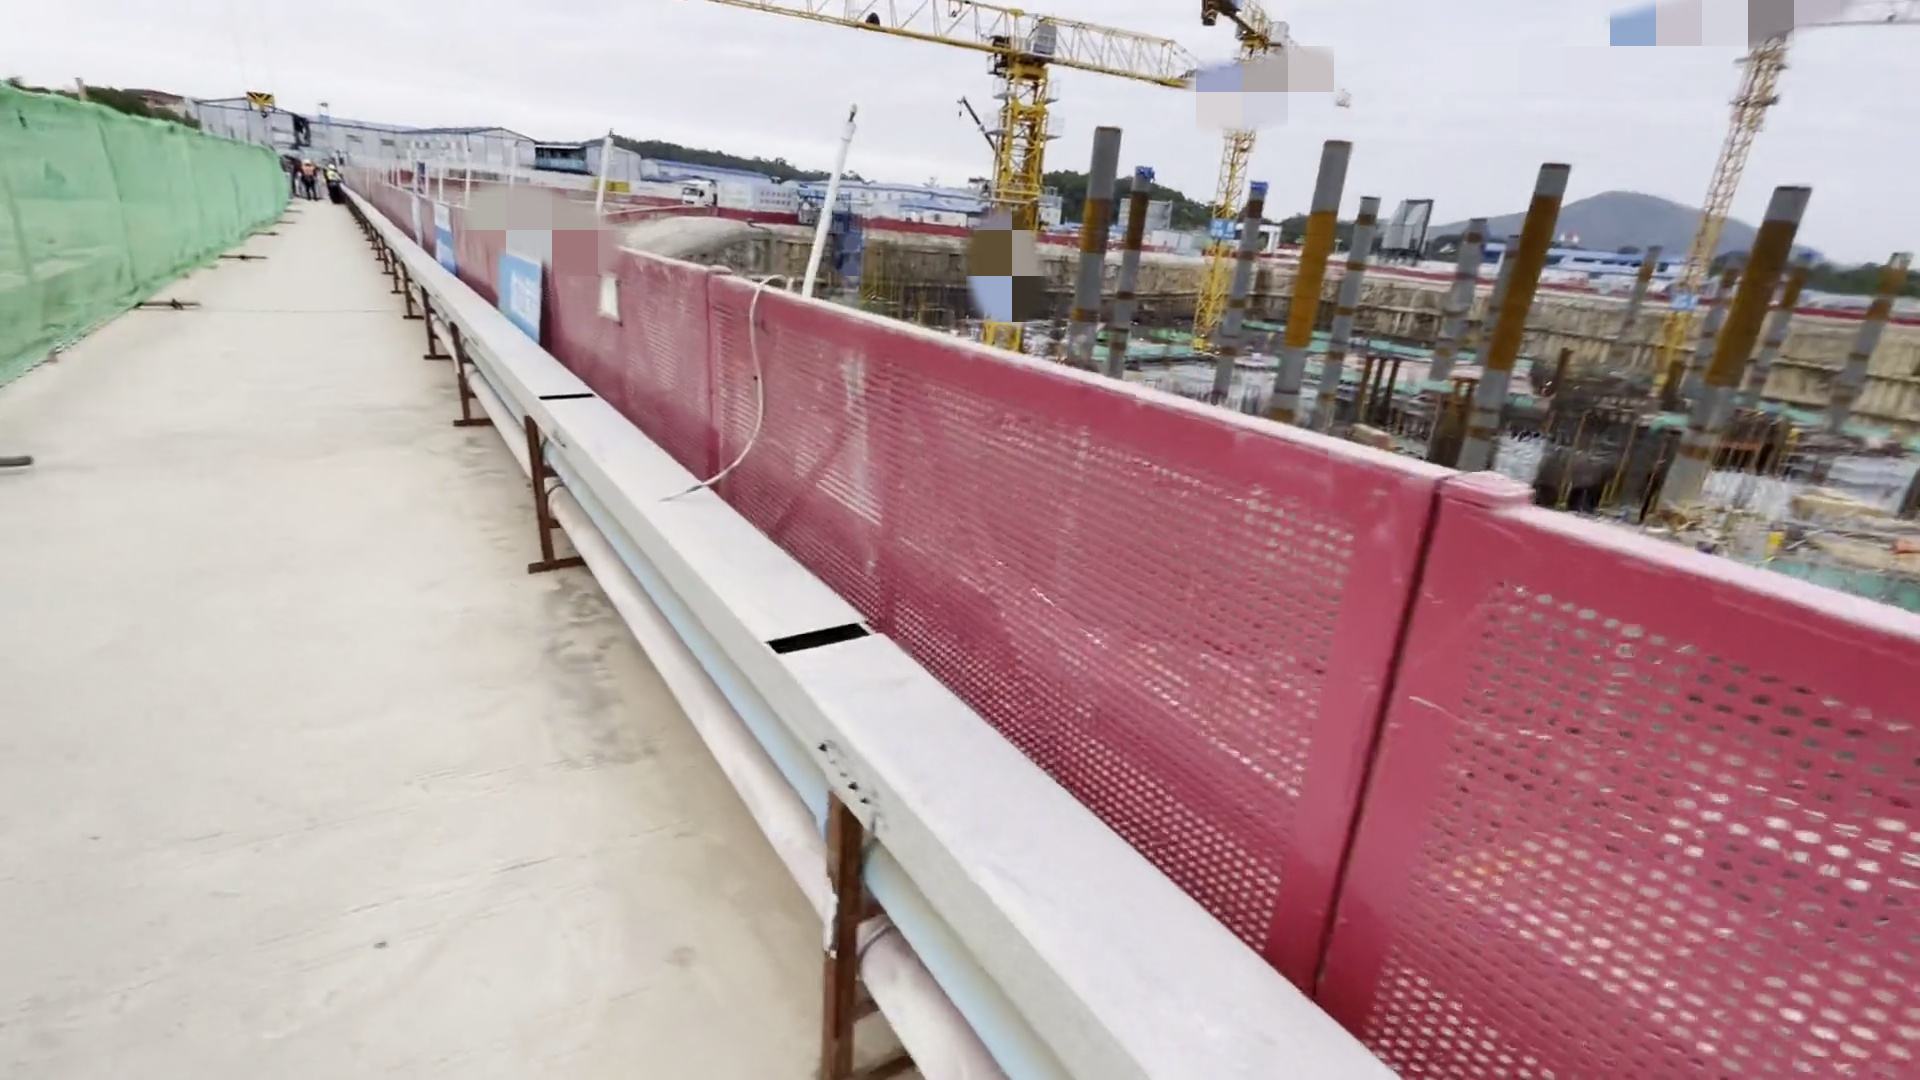fence: (284, 96, 1831, 1060)
hook: (241, 82, 287, 122)
person: (295, 152, 324, 207), (320, 161, 346, 210)
slogan: (491, 225, 553, 338), (397, 179, 456, 285)
